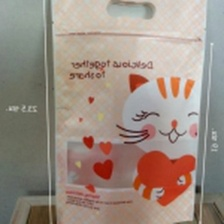snack: (44, 0, 213, 224)
